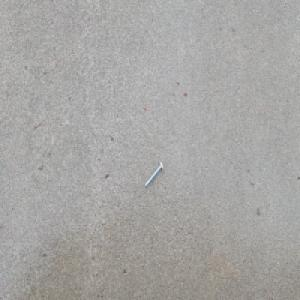Nail: (143, 160, 164, 189)
